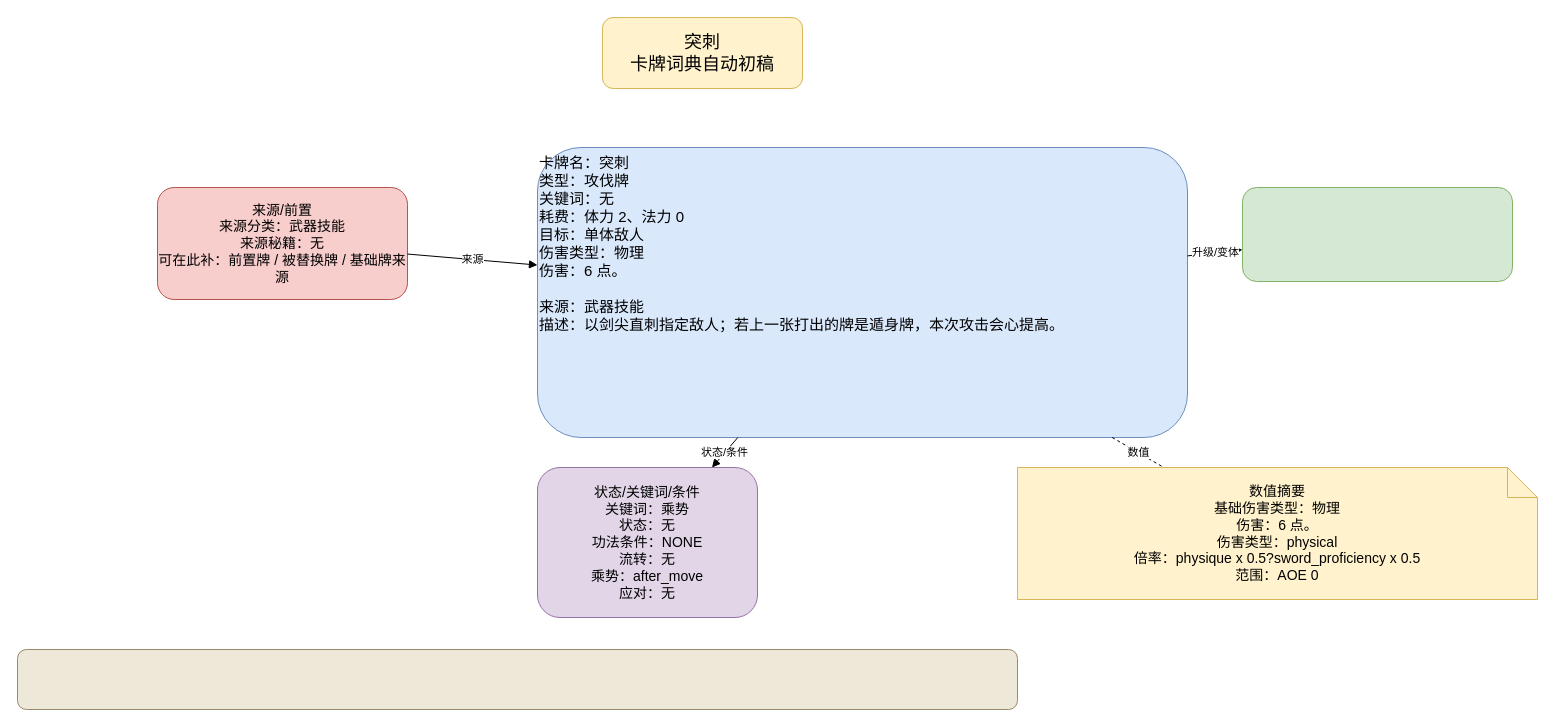
Some shapes in this 1555 by 727 pixel diagram are drawn without their labels. Each missing label, with the centre of its shape:
"升级/变体预留 可在此补：升级牌 / 主修强化版 / 化法后新牌 同系：武器技能" goes at pixel 1377 234.
"本图为详细版：效果后以括号列出公式；游戏内可设置简略／详细。" goes at pixel 517 679.
